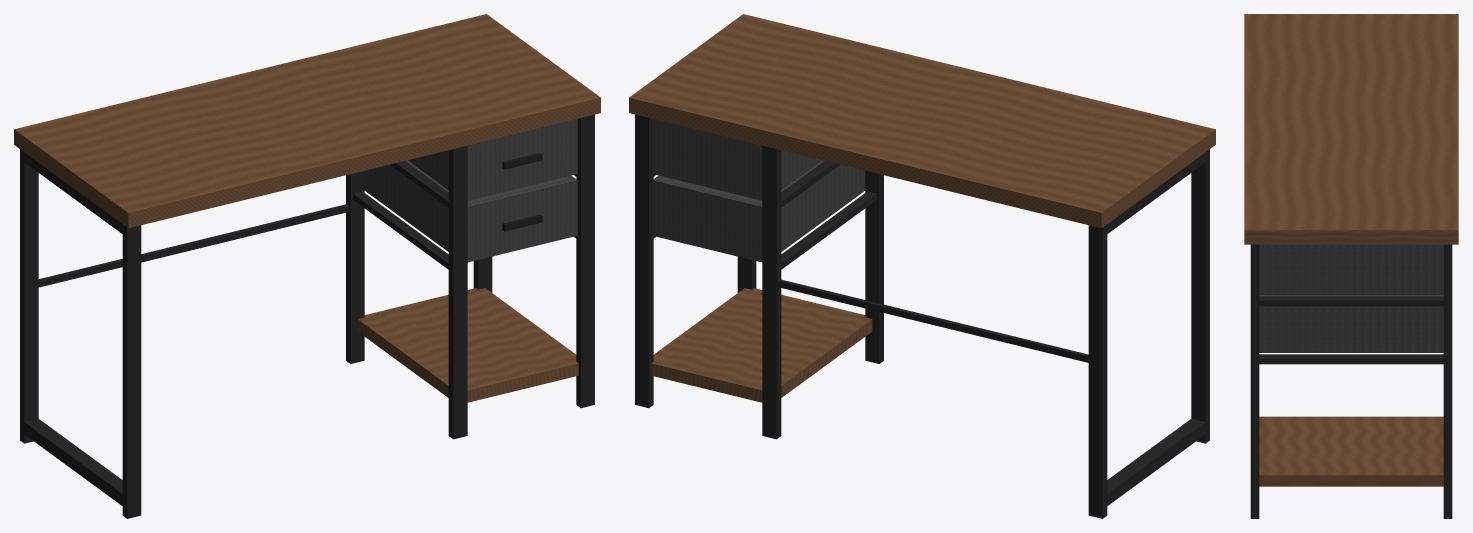
The picture shows the model from 3 angles, left to right: view 1: azimuth 30°, elevation 25°; view 2: azimuth 150°, elevation 25°; view 3: azimuth 270°, elevation 25°; orthographic projection. The views are drawn at different scales.
Visible parts, largest first — view 1: 1 tabletop, 10 right_bottom_shelf, 12 bottom_fabric_drawer, 11 top_fabric_drawer, 2 left_front_leg, 6 inner_right_front_leg, 8 outer_right_front_leg, 3 left_back_leg, 7 inner_right_back_leg, 15 back_stretcher_bar, 4 left_bottom_bar, 19 inner_right_lower_rail (+2 smaller); view 2: 1 tabletop, 10 right_bottom_shelf, 12 bottom_fabric_drawer, 11 top_fabric_drawer, 3 left_back_leg, 7 inner_right_back_leg, 9 outer_right_back_leg, 2 left_front_leg, 6 inner_right_front_leg, 15 back_stretcher_bar, 4 left_bottom_bar, 19 inner_right_lower_rail (+2 smaller); view 3: 1 tabletop, 10 right_bottom_shelf, 11 top_fabric_drawer, 12 bottom_fabric_drawer, 8 outer_right_front_leg, 9 outer_right_back_leg, 16 outer_right_upper_rail, 17 outer_right_lower_rail.
Boxes of the visible parts, left/top/right/bottom form: 1 tabletop: left=14, top=14, right=600, bottom=228; 10 right_bottom_shelf: left=357, top=288, right=578, bottom=402; 12 bottom_fabric_drawer: left=364, top=160, right=577, bottom=262; 11 top_fabric_drawer: left=408, top=119, right=577, bottom=200; 2 left_front_leg: left=122, top=224, right=141, bottom=518; 6 inner_right_front_leg: left=448, top=145, right=467, bottom=439; 8 outer_right_front_leg: left=576, top=114, right=594, bottom=407; 3 left_back_leg: left=20, top=149, right=38, bottom=443; 7 inner_right_back_leg: left=346, top=171, right=364, bottom=363; 15 back_stretcher_bar: left=38, top=204, right=349, bottom=287; 4 left_bottom_bar: left=24, top=418, right=122, bottom=505; 19 inner_right_lower_rail: left=353, top=191, right=448, bottom=269; 1 tabletop: left=629, top=14, right=1215, bottom=228; 10 right_bottom_shelf: left=651, top=288, right=872, bottom=402; 12 bottom_fabric_drawer: left=652, top=160, right=865, bottom=262; 11 top_fabric_drawer: left=652, top=119, right=821, bottom=200; 3 left_back_leg: left=1088, top=224, right=1107, bottom=518; 7 inner_right_back_leg: left=762, top=145, right=781, bottom=439; 9 outer_right_back_leg: left=635, top=114, right=653, bottom=407; 2 left_front_leg: left=1191, top=149, right=1209, bottom=443; 6 inner_right_front_leg: left=865, top=171, right=883, bottom=363; 15 back_stretcher_bar: left=777, top=279, right=1088, bottom=362; 4 left_bottom_bar: left=1107, top=418, right=1207, bottom=505; 19 inner_right_lower_rail: left=781, top=191, right=876, bottom=269; 1 tabletop: left=1244, top=14, right=1458, bottom=244; 10 right_bottom_shelf: left=1259, top=416, right=1443, bottom=486; 11 top_fabric_drawer: left=1259, top=244, right=1443, bottom=294; 12 bottom_fabric_drawer: left=1259, top=295, right=1443, bottom=352; 8 outer_right_front_leg: left=1250, top=244, right=1259, bottom=518; 9 outer_right_back_leg: left=1443, top=244, right=1452, bottom=518; 16 outer_right_upper_rail: left=1259, top=296, right=1443, bottom=306; 17 outer_right_lower_rail: left=1259, top=354, right=1443, bottom=364.
Bounding box in the file's own units: 1.6 × 1 × 0.67.
Materials: 4 (2 with a texture image).
